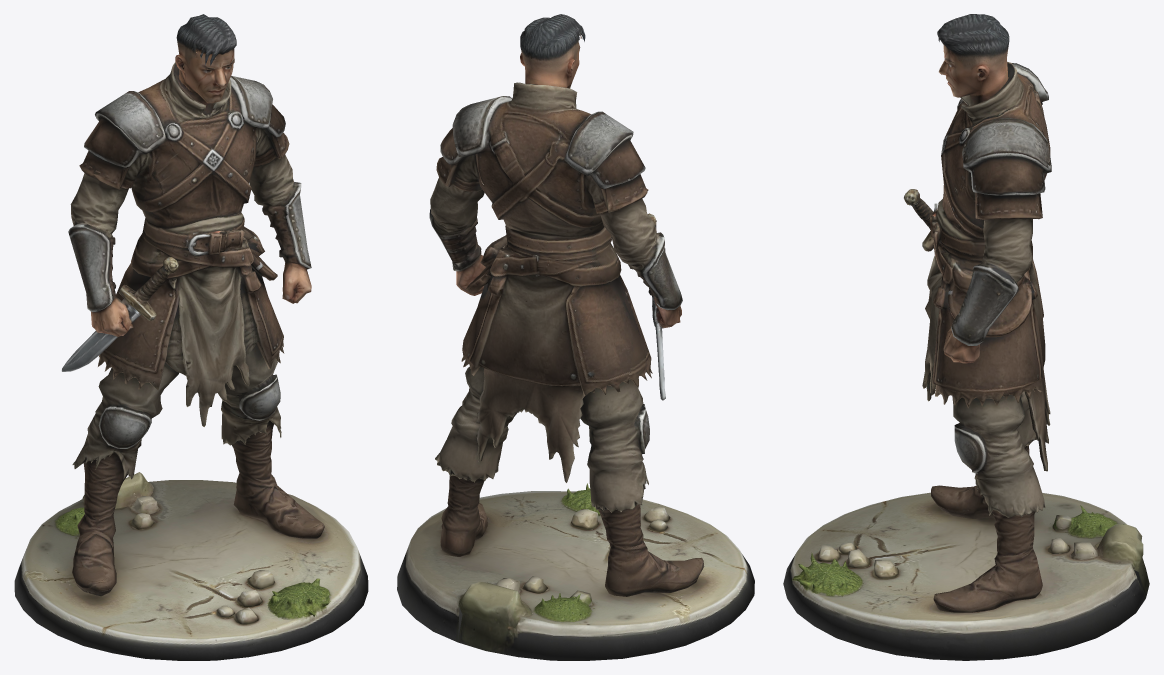
Rendered from thief_alt1_male.glb.
3 renders of one model, left to right at view 1: azimuth 30°, elevation 25°; view 2: azimuth 150°, elevation 25°; view 3: azimuth 270°, elevation 25°, orthographic. The views are drawn at different scales.
Parts seen in each view (by area): view 1: tripo_node_d416c97b-1778-4916-a216-016e28c28c6b; view 2: tripo_node_d416c97b-1778-4916-a216-016e28c28c6b; view 3: tripo_node_d416c97b-1778-4916-a216-016e28c28c6b.
Boxes of the visible parts, bbox=[...] form: tripo_node_d416c97b-1778-4916-a216-016e28c28c6b: bbox=[14, 14, 368, 660]; tripo_node_d416c97b-1778-4916-a216-016e28c28c6b: bbox=[397, 14, 754, 660]; tripo_node_d416c97b-1778-4916-a216-016e28c28c6b: bbox=[783, 14, 1149, 660].
Size of the model in its own units: 0.5762 by 0.998 by 0.5762.
1 material, 1 textured.
